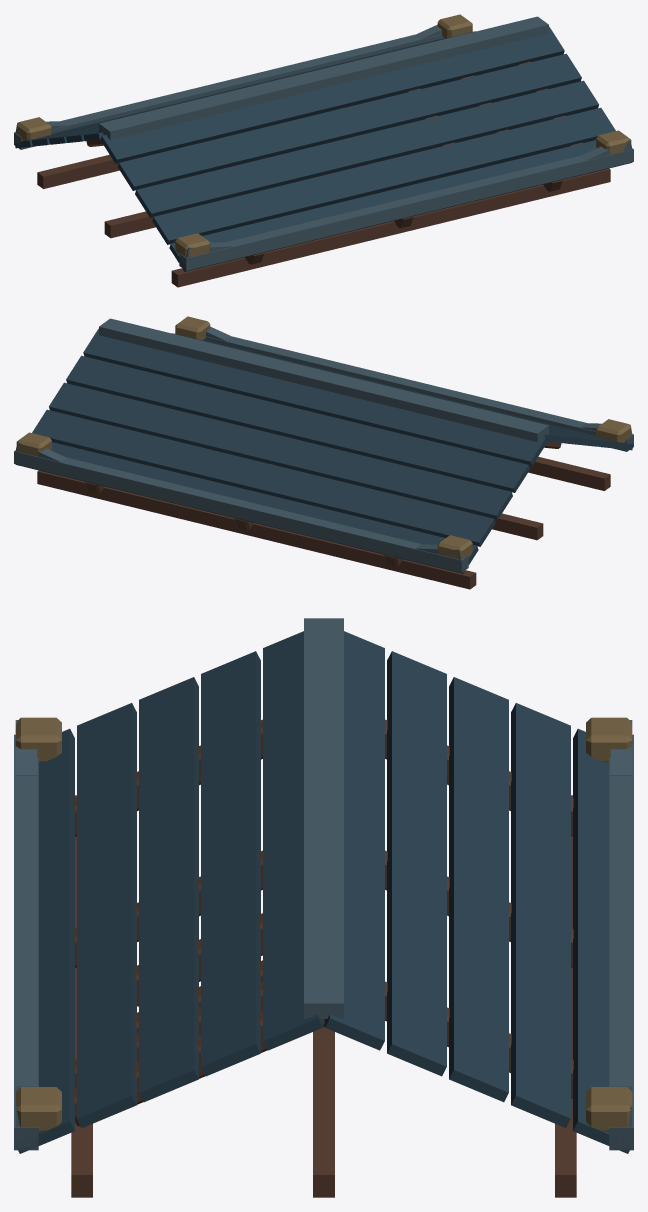
Rendered from a04_ceremonial_wind_shrine_roof.glb.
The picture shows the model from 3 angles, top to bottom: view 1: azimuth 30°, elevation 25°; view 2: azimuth 150°, elevation 25°; view 3: azimuth 270°, elevation 25°; orthographic projection. The views are drawn at different scales.
Visible parts, largest first — view 1: A04_Damaged_Slope_Front_Band_03, A04_Damaged_Slope_Front_Band_02, A04_Intact_Slope_Front_Band_04, A04_Damaged_Slope_Front_Band_01, A04_Damaged_Slope_Front_Band_04, A04_Damaged_Continuous_Ridge_Cap, A04_Damaged_Underside_Tie_Beam_-1, A04_Intact_Eave_Rail_-1, A04_Intact_Slope_Front_Band_05, A04_Damaged_Eave_Rail_-1, A04_Damaged_Eave_Rail_+1, A04_Damaged_Slope_Front_Band_05 (+7 smaller); view 2: A04_Damaged_Slope_Rear_Band_03, A04_Damaged_Slope_Rear_Band_02, A04_Damaged_Slope_Rear_Band_04, A04_Damaged_Slope_Rear_Band_01, A04_Damaged_Continuous_Ridge_Cap, A04_Damaged_Eave_Rail_+1, A04_Damaged_Underside_Tie_Beam_+1, A04_Damaged_Slope_Rear_Band_05, A04_Intact_Eave_Rail_-1, A04_Damaged_Eave_Rail_-1, A04_Damaged_Underside_Tie_Beam_-1, A04_Damaged_Underside_Tie_Beam_+0 (+5 smaller); view 3: A04_Damaged_Slope_Rear_Band_04, A04_Damaged_Slope_Rear_Band_03, A04_Damaged_Slope_Rear_Band_02, A04_Damaged_Slope_Front_Band_03, A04_Damaged_Slope_Front_Band_02, A04_Damaged_Slope_Front_Band_04, A04_Damaged_Slope_Front_Band_01, A04_Damaged_Slope_Rear_Band_01, A04_Damaged_Continuous_Ridge_Cap, A04_Intact_Slope_Front_Band_04, A04_Damaged_Slope_Rear_Band_05, A04_Intact_Slope_Front_Band_05 (+11 smaller).
Part boxes in pixels (x1,y1,x2,y2): A04_Damaged_Slope_Front_Band_03: (135, 80, 598, 217); A04_Damaged_Slope_Front_Band_02: (118, 53, 581, 190); A04_Intact_Slope_Front_Band_04: (154, 107, 615, 244); A04_Damaged_Slope_Front_Band_01: (100, 26, 564, 163); A04_Damaged_Slope_Front_Band_04: (152, 134, 502, 244); A04_Damaged_Continuous_Ridge_Cap: (99, 16, 548, 140); A04_Damaged_Underside_Tie_Beam_-1: (171, 168, 610, 287); A04_Intact_Eave_Rail_-1: (179, 149, 633, 270); A04_Intact_Slope_Front_Band_05: (170, 140, 632, 271); A04_Damaged_Eave_Rail_-1: (381, 148, 633, 221); A04_Damaged_Eave_Rail_+1: (14, 34, 443, 149); A04_Damaged_Slope_Front_Band_05: (169, 184, 423, 271); A04_Damaged_Slope_Rear_Band_03: (49, 382, 512, 519); A04_Damaged_Slope_Rear_Band_02: (66, 355, 529, 492); A04_Damaged_Slope_Rear_Band_04: (32, 409, 495, 546); A04_Damaged_Slope_Rear_Band_01: (83, 328, 547, 465); A04_Damaged_Continuous_Ridge_Cap: (99, 318, 548, 442); A04_Damaged_Eave_Rail_+1: (14, 450, 468, 572); A04_Damaged_Underside_Tie_Beam_+1: (37, 470, 476, 589); A04_Damaged_Slope_Rear_Band_05: (15, 442, 478, 573); A04_Intact_Eave_Rail_-1: (204, 336, 633, 451); A04_Damaged_Eave_Rail_-1: (204, 336, 431, 393); A04_Damaged_Underside_Tie_Beam_-1: (528, 456, 610, 490); A04_Damaged_Underside_Tie_Beam_+0: (492, 513, 543, 540); A04_Damaged_Slope_Rear_Band_04: (511, 703, 570, 1127); A04_Damaged_Slope_Rear_Band_03: (449, 677, 508, 1102); A04_Damaged_Slope_Rear_Band_02: (387, 651, 446, 1076); A04_Damaged_Slope_Front_Band_03: (139, 677, 198, 1102); A04_Damaged_Slope_Front_Band_02: (201, 651, 260, 1076); A04_Damaged_Slope_Front_Band_04: (77, 703, 136, 1023); A04_Damaged_Slope_Front_Band_01: (263, 631, 322, 1050); A04_Damaged_Slope_Rear_Band_01: (325, 631, 384, 1050); A04_Damaged_Continuous_Ridge_Cap: (304, 618, 343, 1018); A04_Intact_Slope_Front_Band_04: (77, 703, 136, 1127); A04_Damaged_Slope_Rear_Band_05: (573, 728, 630, 1153); A04_Intact_Slope_Front_Band_05: (17, 729, 74, 1153).
Size of the model in its own units: 6 by 1.4 by 4.
